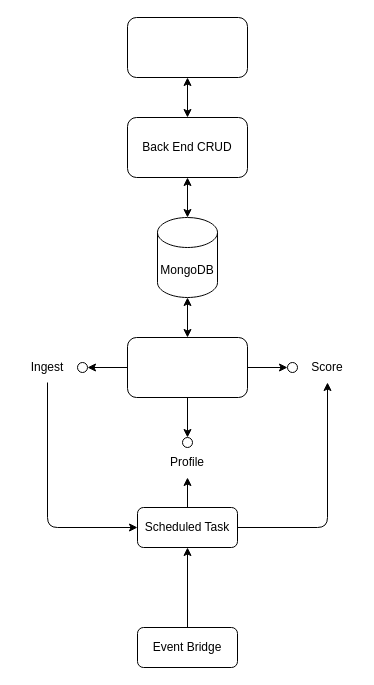
Some shapes in this 374 by 685 pixel diagram are drawn without their labels. The centre of each missing label's shape, as x and y in pixels:
Engine: the point at 187,367
Front End: the point at 187,47
